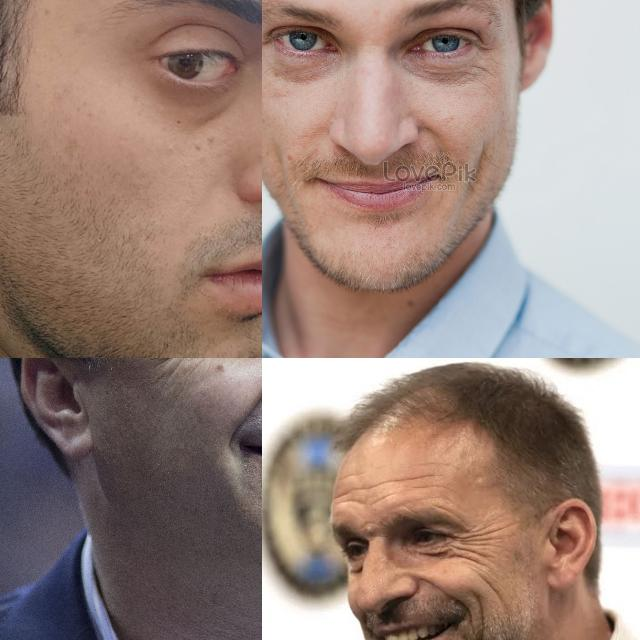crows_feet: (452, 531, 478, 559)
forehead: (394, 468, 436, 484), (332, 484, 356, 510), (335, 466, 365, 484), (416, 458, 454, 470), (354, 480, 390, 492), (368, 493, 398, 507)
gummy_smile: (228, 381, 262, 435), (421, 576, 455, 600)
masseter: (480, 570, 504, 602), (477, 607, 491, 640)
